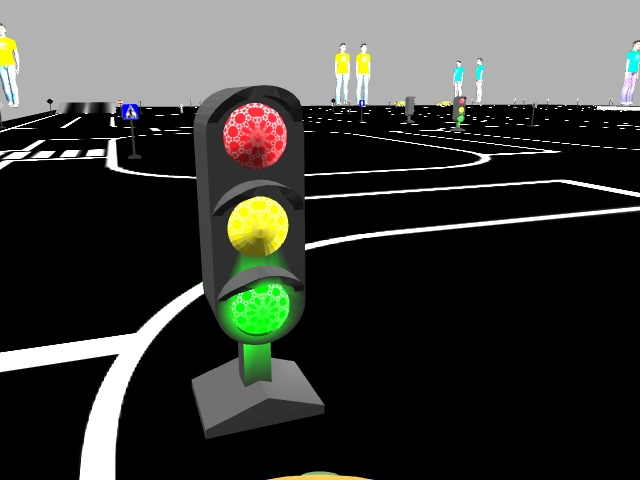Crosswalk: (122, 103, 137, 120)
TrafficLight: (195, 80, 307, 345)
